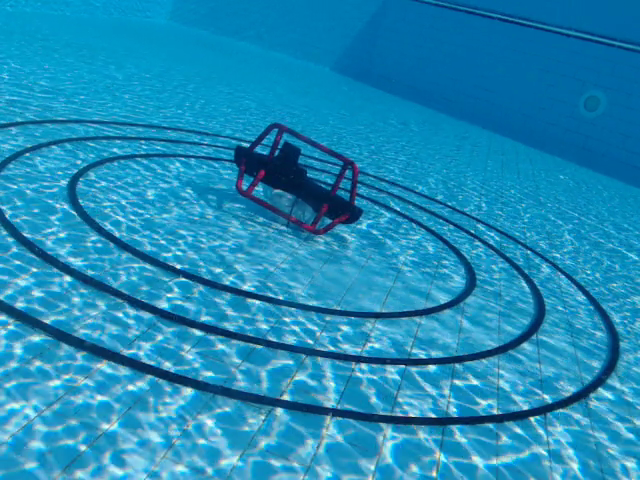submarine: (233, 121, 365, 236)
